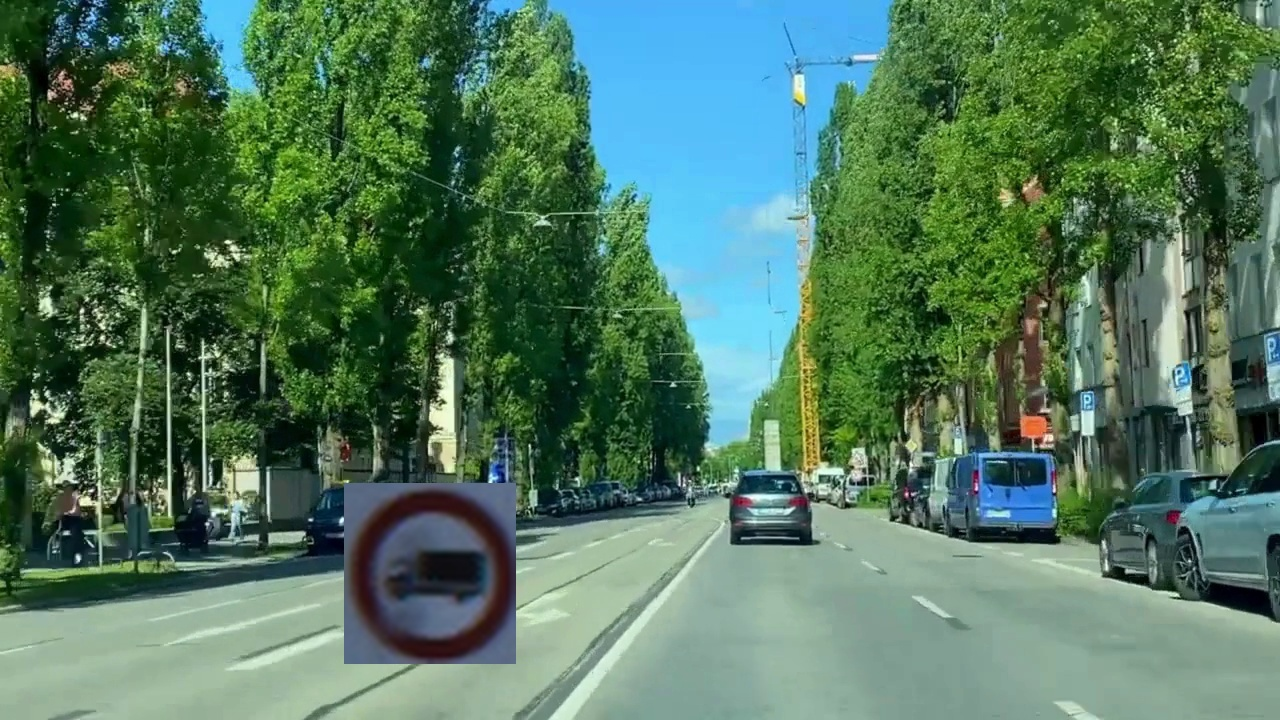Veh >3.5t prohib: (344, 483, 516, 664)
